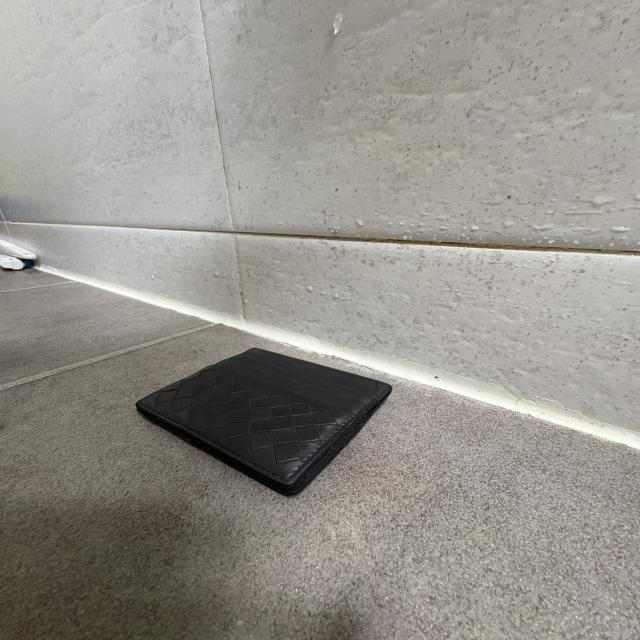wallet: (134, 348, 394, 496)
